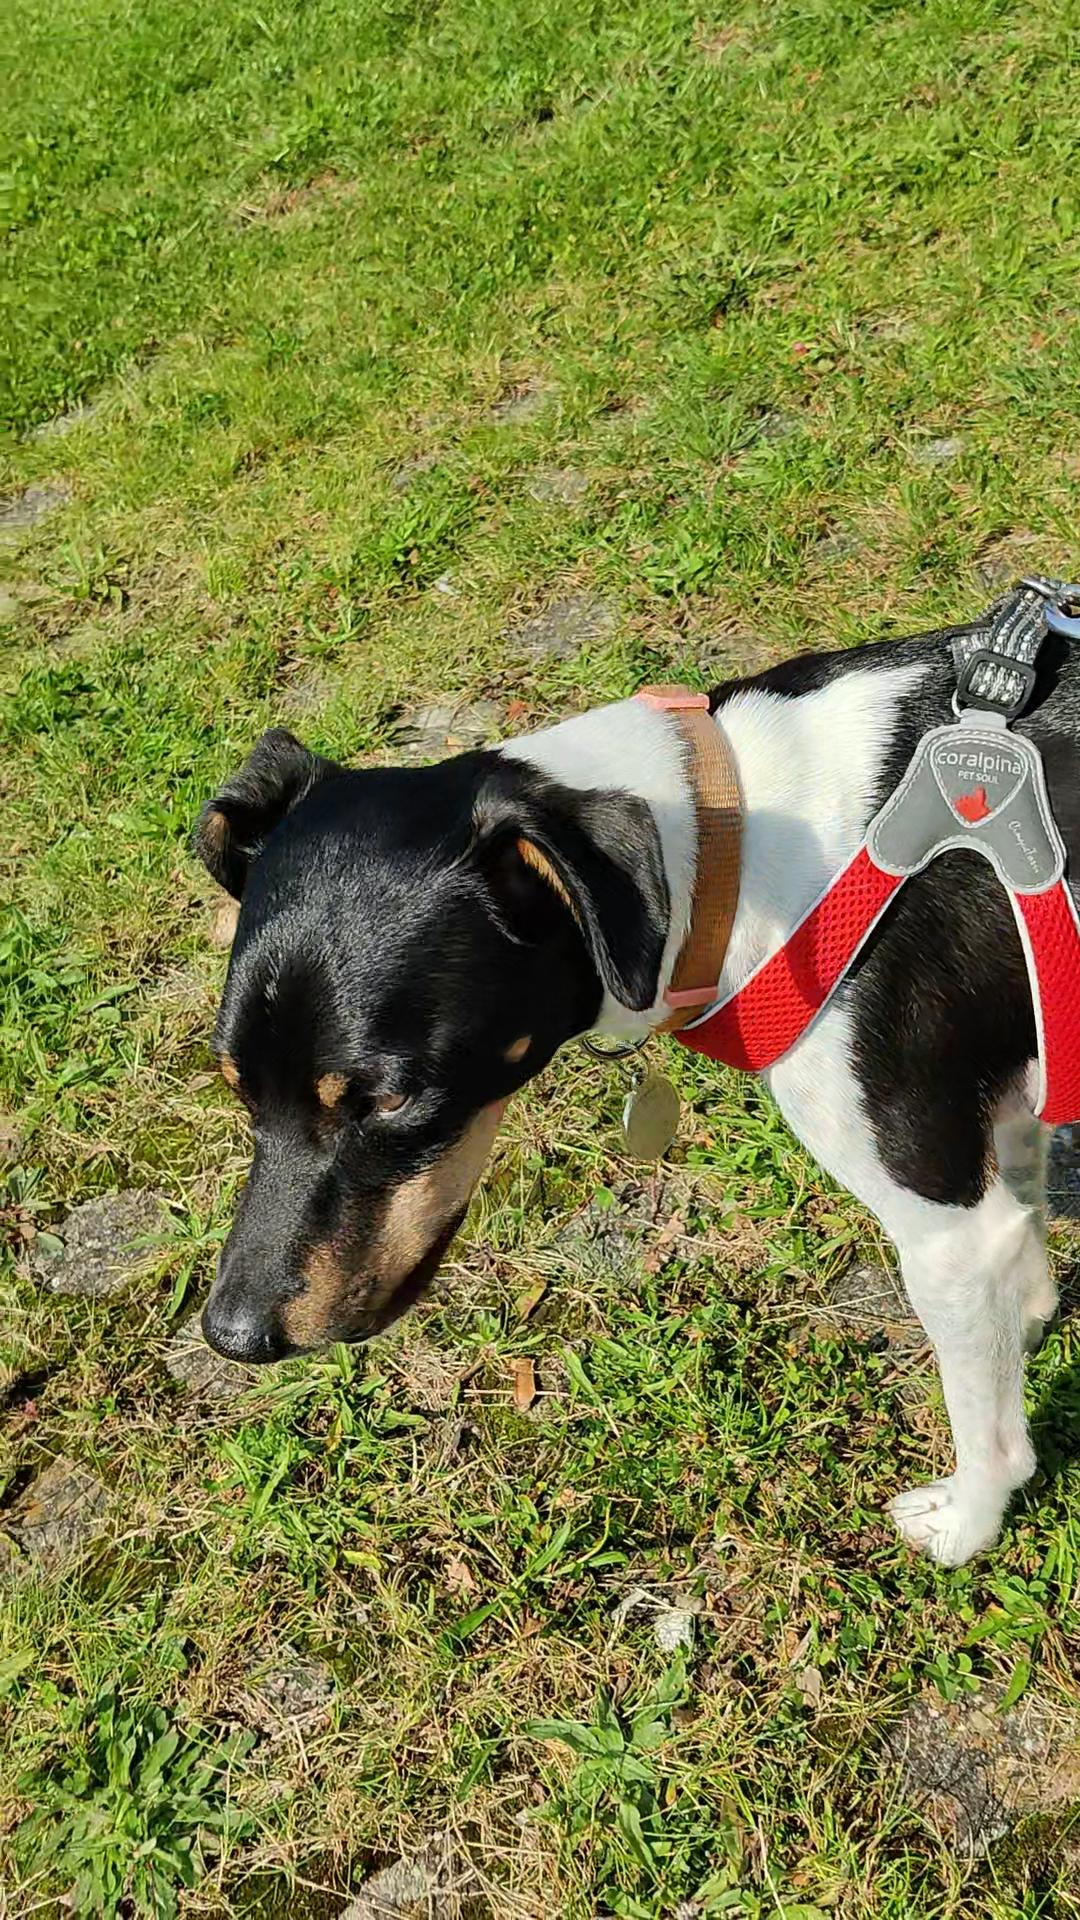Dog: (185, 562, 1079, 1623)
